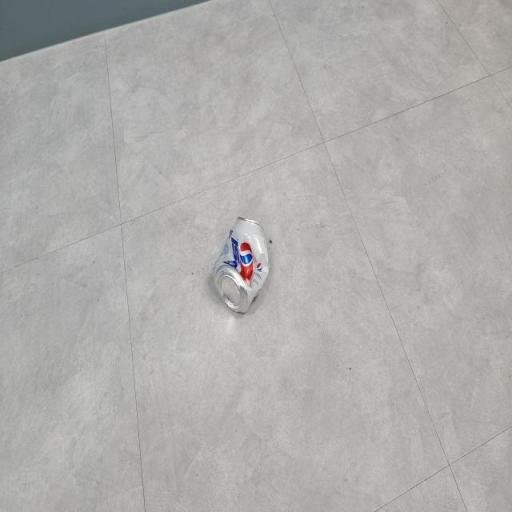metal: (201, 156, 277, 358)
